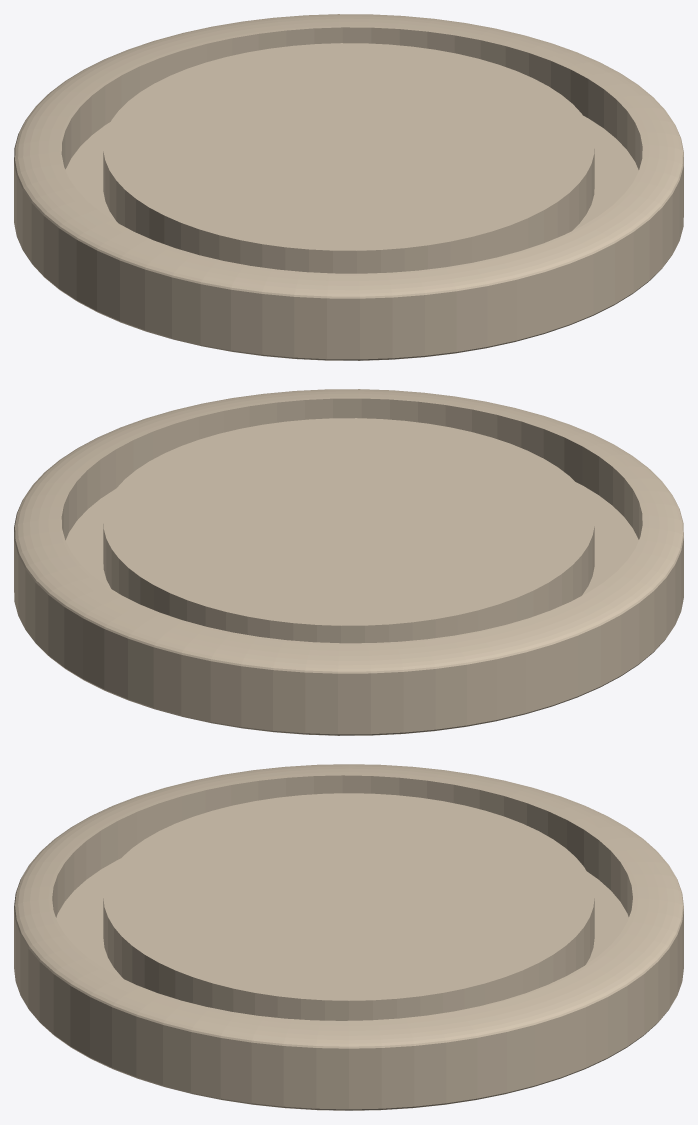
The picture shows the model from 3 angles, top to bottom: view 1: azimuth 30°, elevation 25°; view 2: azimuth 150°, elevation 25°; view 3: azimuth 270°, elevation 25°; orthographic projection.
Visible parts, largest first — view 1: Mesh_Mesh_head_geo.001_lambert2SG.001; view 2: Mesh_Mesh_head_geo.001_lambert2SG.001; view 3: Mesh_Mesh_head_geo.001_lambert2SG.001.
Boxes of the visible parts, x1=… form: Mesh_Mesh_head_geo.001_lambert2SG.001: x1=14, y1=14, x2=683, y2=360; Mesh_Mesh_head_geo.001_lambert2SG.001: x1=14, y1=389, x2=683, y2=735; Mesh_Mesh_head_geo.001_lambert2SG.001: x1=14, y1=764, x2=683, y2=1110.
Size of the model in its own units: 15 by 2 by 15.
